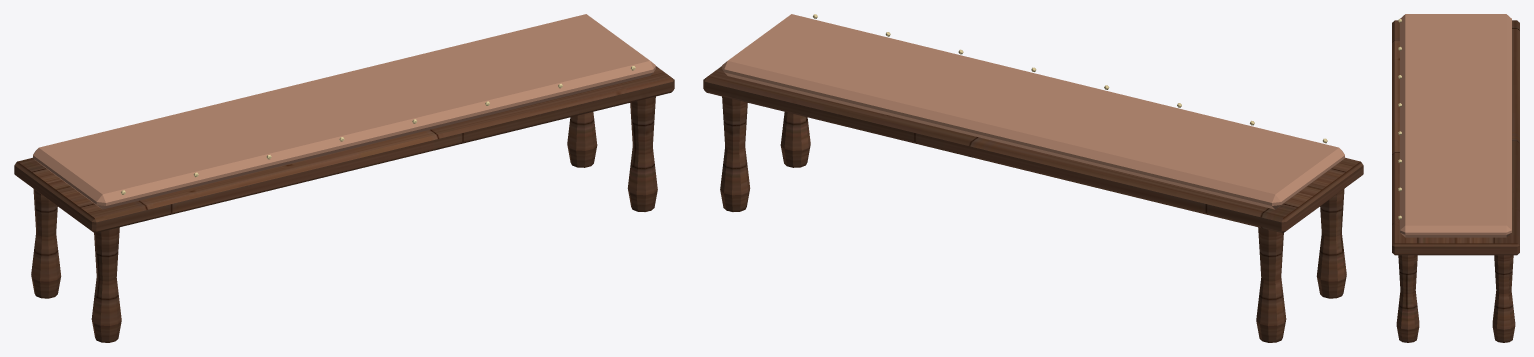
Rendered from hall_bench.glb.
3 renders of one model, left to right at view 1: azimuth 30°, elevation 25°; view 2: azimuth 150°, elevation 25°; view 3: azimuth 270°, elevation 25°, orthographic. The views are drawn at different scales.
Visible parts, largest first — view 1: hall_bench_leather, hall_bench_dkwood; view 2: hall_bench_leather, hall_bench_dkwood; view 3: hall_bench_leather, hall_bench_dkwood, hall_bench_brass.
Part boxes in pixels (left/top/right/bottom): hall_bench_leather: left=33, top=14, right=655, bottom=209; hall_bench_dkwood: left=14, top=66, right=674, bottom=342; hall_bench_leather: left=722, top=14, right=1344, bottom=209; hall_bench_dkwood: left=703, top=66, right=1363, bottom=342; hall_bench_leather: left=1400, top=14, right=1511, bottom=237; hall_bench_dkwood: left=1392, top=20, right=1519, bottom=342; hall_bench_brass: left=1398, top=19, right=1401, bottom=219.
Size of the model in its own units: 2 by 0.4868 by 0.48.
Materials: 3 (1 with a texture image).
